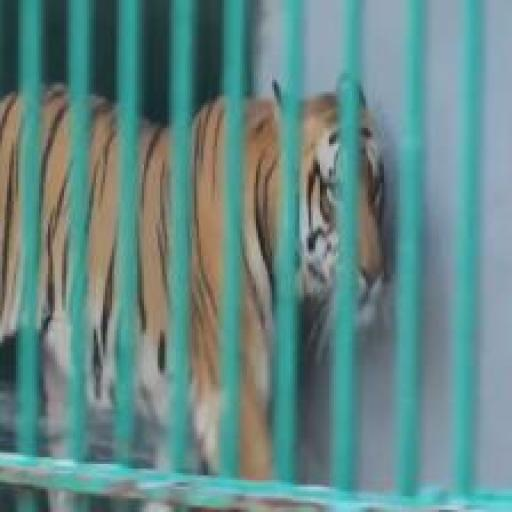Tiger: (11, 43, 407, 502)
